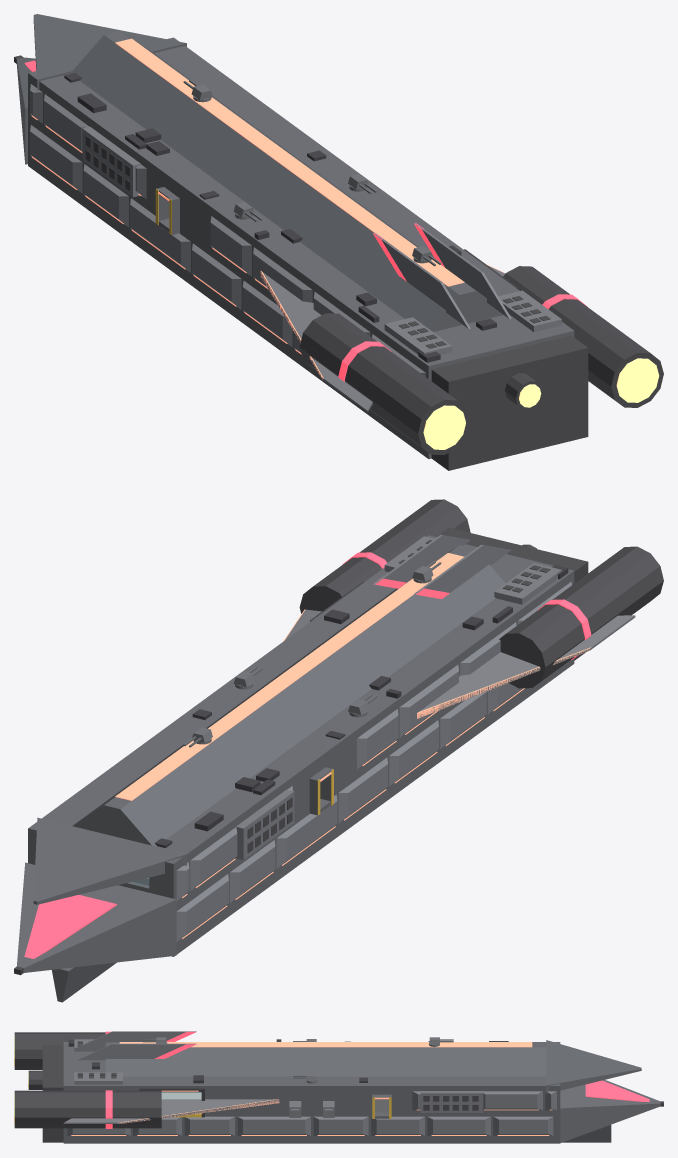
Rendered from ship_SMALL_FRIGATE.glb.
3 renders of one model, top to bottom at view 1: azimuth 30°, elevation 25°; view 2: azimuth 150°, elevation 25°; view 3: azimuth 270°, elevation 25°, orthographic. The views are drawn at different scales.
Visible parts, largest first — view 1: SMALL_FRIGATE_Hull-col, SMALL_FRIGATE_Engines, SMALL_FRIGATE_Armor, SMALL_FRIGATE_Lights, SMALL_FRIGATE_EngineGlow, SMALL_FRIGATE_Details, SMALL_FRIGATE_Accent; view 2: SMALL_FRIGATE_Hull-col, SMALL_FRIGATE_Armor, SMALL_FRIGATE_Engines, SMALL_FRIGATE_Lights, SMALL_FRIGATE_Accent, SMALL_FRIGATE_Details; view 3: SMALL_FRIGATE_Hull-col, SMALL_FRIGATE_Armor, SMALL_FRIGATE_Engines, SMALL_FRIGATE_Lights, SMALL_FRIGATE_Accent, SMALL_FRIGATE_Trim, SMALL_FRIGATE_CargoBayDoor-col, SMALL_FRIGATE_CargoBayShield, SMALL_FRIGATE_Details, SMALL_FRIGATE_Hazard, SMALL_FRIGATE_EscapePod_1, SMALL_FRIGATE_EscapePod_2 (+1 smaller).
Part boxes in pixels (<box>): SMALL_FRIGATE_Hull-col: <box>16,14,574,458</box>; SMALL_FRIGATE_Engines: <box>14,55,663,470</box>; SMALL_FRIGATE_Armor: <box>30,84,561,412</box>; SMALL_FRIGATE_Lights: <box>31,38,505,379</box>; SMALL_FRIGATE_EngineGlow: <box>423,358,659,449</box>; SMALL_FRIGATE_Details: <box>64,73,496,362</box>; SMALL_FRIGATE_Accent: <box>24,60,587,381</box>; SMALL_FRIGATE_Hull-col: <box>16,535,574,1002</box>; SMALL_FRIGATE_Armor: <box>176,534,635,942</box>; SMALL_FRIGATE_Engines: <box>14,499,663,975</box>; SMALL_FRIGATE_Lights: <box>115,553,591,939</box>; SMALL_FRIGATE_Accent: <box>24,552,591,958</box>; SMALL_FRIGATE_Details: <box>154,565,568,848</box>; SMALL_FRIGATE_Hull-col: <box>63,1040,660,1143</box>; SMALL_FRIGATE_Armor: <box>63,1031,556,1135</box>; SMALL_FRIGATE_Engines: <box>14,1032,663,1142</box>; SMALL_FRIGATE_Lights: <box>71,1042,552,1135</box>; SMALL_FRIGATE_Accent: <box>105,1031,649,1128</box>; SMALL_FRIGATE_Trim: <box>139,1088,204,1117</box>; SMALL_FRIGATE_CargoBayDoor-col: <box>161,1092,201,1099</box>; SMALL_FRIGATE_CargoBayShield: <box>161,1092,201,1099</box>; SMALL_FRIGATE_Details: <box>68,1039,508,1083</box>; SMALL_FRIGATE_Hazard: <box>173,1097,391,1118</box>; SMALL_FRIGATE_EscapePod_1: <box>289,1101,301,1117</box>; SMALL_FRIGATE_EscapePod_2: <box>323,1101,334,1117</box>.
Size of the model in its own units: 27.41 by 16.45 by 92.9.
